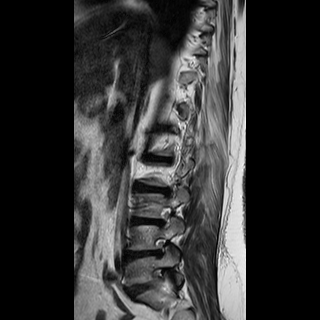RFS0: (151, 201, 179, 232)
RFS2: (145, 232, 174, 261)
